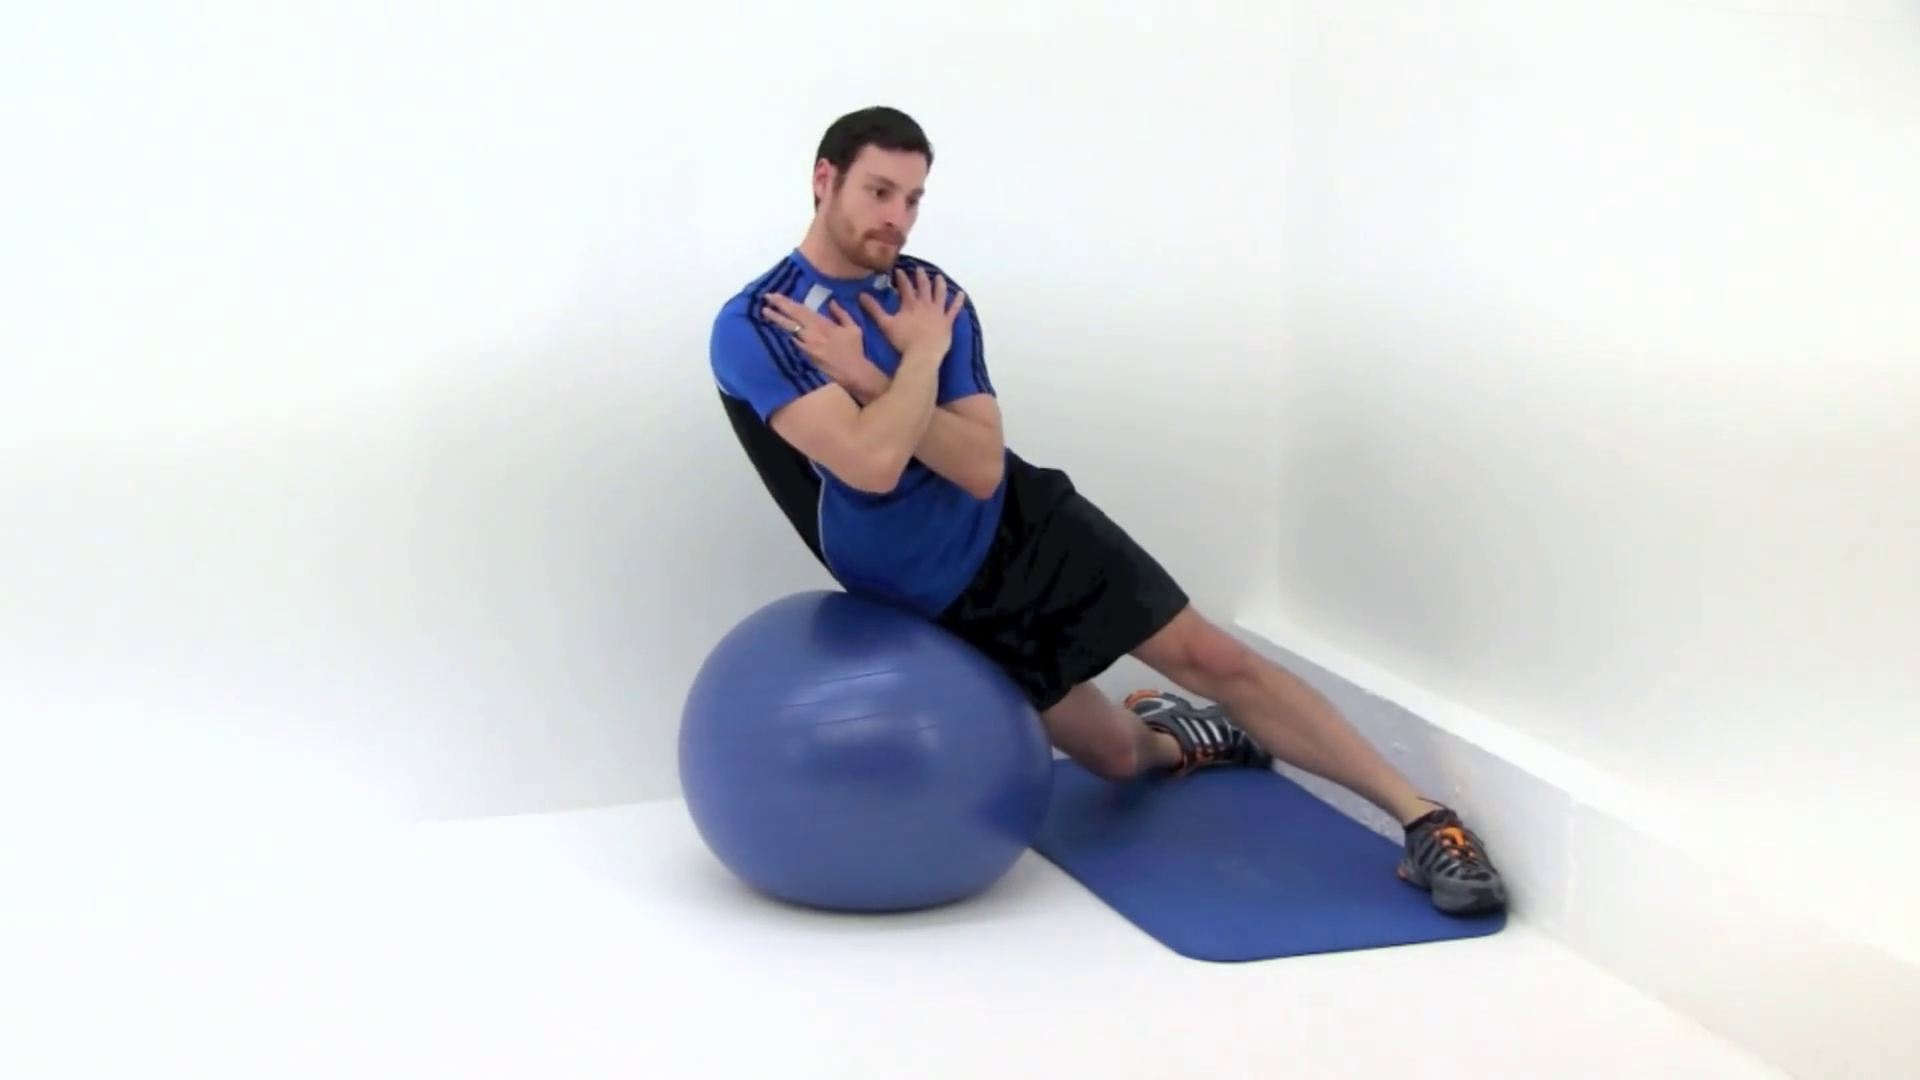yogaball: (676, 592, 1065, 930)
